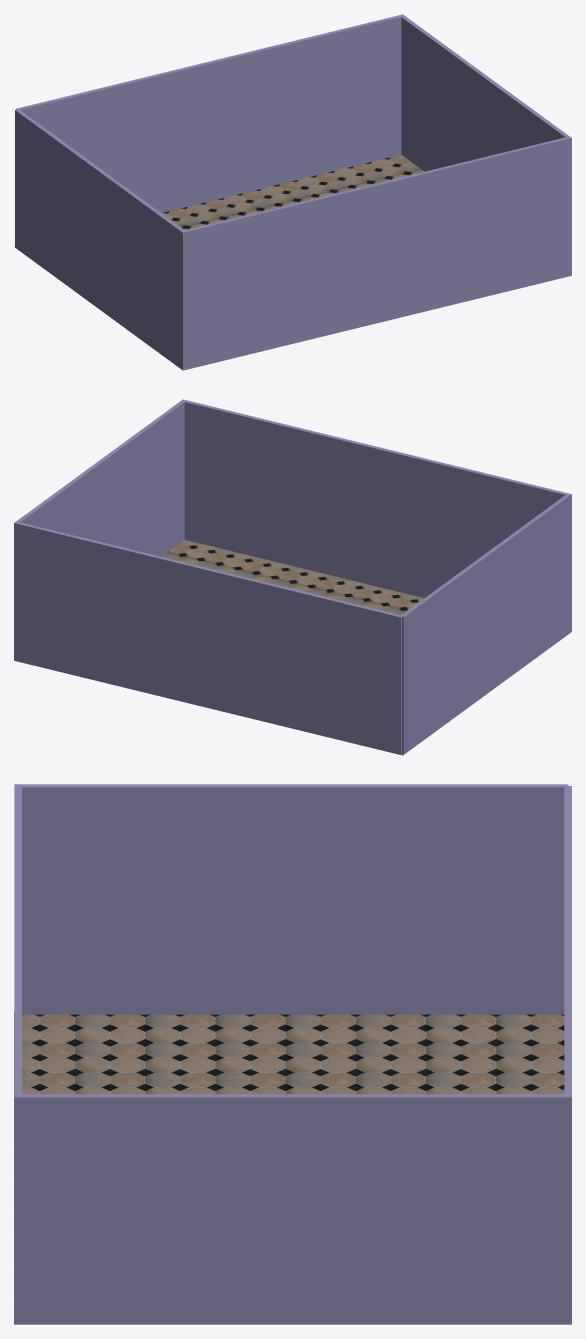
File: room.glb
The picture shows the model from 3 angles, top to bottom: view 1: azimuth 30°, elevation 25°; view 2: azimuth 150°, elevation 25°; view 3: azimuth 270°, elevation 25°; orthographic projection. The views are drawn at different scales.
Parts seen in each view (by area): view 1: wall_3_16, wall_1_5, wall_4_22, wall_2_11, room_5_26, wall_3_18, wall_1_6, wall_1_7, wall_3_19; view 2: wall_1_4, wall_3_17, wall_4_22, wall_2_11, room_5_26, wall_3_18, wall_1_6, wall_1_7, wall_3_19; view 3: wall_2_10, wall_4_23, room_5_26, wall_1_7, wall_3_18, wall_1_6, wall_3_19, wall_2_12, wall_4_24, wall_2_13, wall_4_25.
Boxes of the visible parts, x1,y1,x2,y2 form: wall_3_16: (183,138,571,370); wall_1_5: (21,17,401,212); wall_4_22: (15,110,182,370); wall_2_11: (401,17,564,171); room_5_26: (161,154,563,369); wall_3_18: (183,137,570,232); wall_1_6: (16,14,402,109); wall_1_7: (17,15,401,110); wall_3_19: (184,137,567,231); wall_1_4: (14,523,401,754); wall_3_17: (184,402,564,597); wall_4_22: (402,494,571,754); wall_2_11: (20,402,184,556); room_5_26: (161,539,424,614); wall_3_18: (183,399,571,494); wall_1_6: (14,522,401,617); wall_1_7: (18,522,402,616); wall_3_19: (184,401,567,494); wall_2_10: (14,1097,571,1324); wall_4_23: (22,787,564,1014); room_5_26: (14,1013,564,1323); wall_1_7: (564,786,568,1095); wall_3_18: (14,784,17,1097); wall_1_6: (568,786,571,1097); wall_3_19: (18,786,21,1095); wall_2_12: (15,1096,570,1097); wall_4_24: (15,784,568,785); wall_2_13: (18,1094,567,1095); wall_4_25: (19,786,564,787).
Size of the model in its own units: 739 by 250 by 556.
3 materials, 1 textured.
